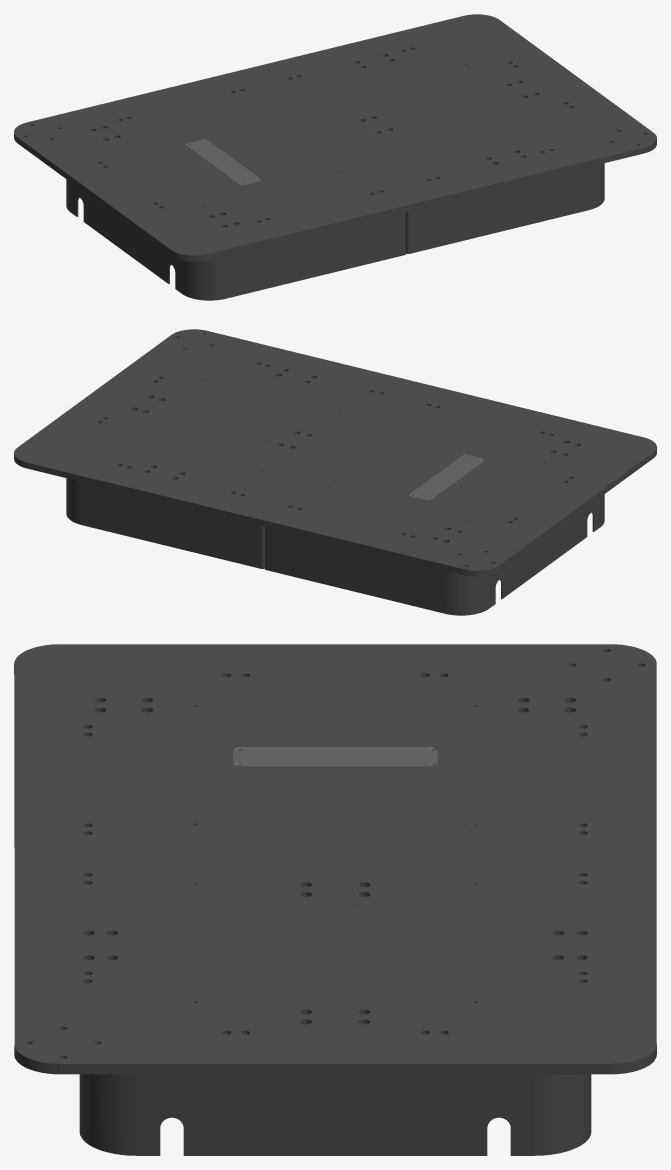
The model's file is plate_up.dae.
3 views of the same model, one above another, from view 1: azimuth 30°, elevation 25°; view 2: azimuth 150°, elevation 25°; view 3: azimuth 270°, elevation 25° (orthographic). The views are drawn at different scales.
Parts seen in each view (by area): view 1: plate_up; view 2: plate_up; view 3: plate_up.
Part boxes in pixels (<box>): plate_up: <box>14,14,656,300</box>; plate_up: <box>14,329,656,615</box>; plate_up: <box>14,644,656,1155</box>.
Size of the model in its own units: 0.8503 by 0.5504 by 0.113.
Materials: 1 (1 with a texture image).
